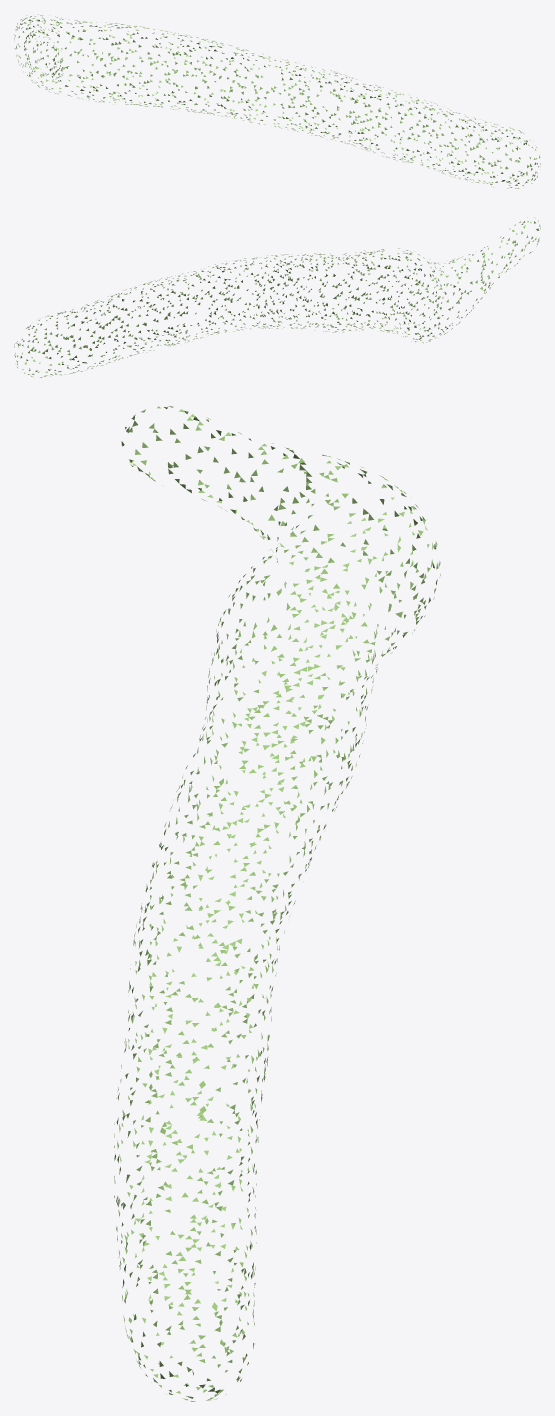
File: morph_013.glb
The picture shows the model from 3 angles, top to bottom: view 1: azimuth 30°, elevation 25°; view 2: azimuth 150°, elevation 25°; view 3: azimuth 270°, elevation 25°; orthographic projection. The views are drawn at different scales.
Bounding box in the file's own units: 122 × 61.19 × 34.32.
